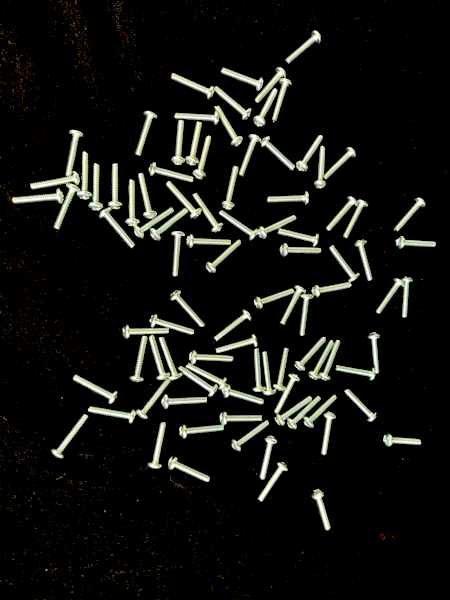longscrew: (53, 414, 87, 459), (74, 369, 116, 405), (173, 69, 216, 103), (171, 291, 208, 328), (256, 462, 291, 501), (99, 212, 135, 248), (192, 191, 224, 231), (263, 137, 297, 174), (219, 210, 256, 244), (53, 183, 79, 230), (214, 309, 251, 342), (136, 206, 173, 239), (140, 377, 170, 417), (285, 30, 319, 65), (168, 183, 202, 218), (232, 418, 269, 450), (207, 237, 239, 274), (270, 375, 301, 413), (64, 127, 88, 176), (169, 455, 209, 484), (254, 66, 288, 100), (217, 88, 253, 120), (297, 133, 327, 171), (216, 104, 243, 146), (344, 390, 375, 426), (149, 314, 195, 338), (375, 280, 406, 315), (225, 64, 262, 93), (257, 213, 295, 241), (325, 147, 357, 180), (147, 162, 195, 184), (288, 398, 322, 429), (178, 369, 217, 396), (328, 196, 358, 231), (154, 207, 187, 238), (275, 398, 312, 425), (392, 200, 424, 231), (307, 395, 338, 427), (296, 339, 329, 369), (31, 171, 78, 192), (310, 490, 333, 532), (317, 413, 340, 455), (149, 424, 170, 470), (311, 341, 337, 378), (256, 287, 296, 311), (217, 333, 257, 357), (345, 200, 369, 239), (194, 137, 216, 179), (238, 135, 260, 177), (160, 336, 181, 380), (136, 112, 156, 158), (188, 363, 226, 387), (333, 246, 359, 281), (255, 90, 280, 126), (148, 336, 168, 381), (322, 341, 345, 380), (222, 385, 264, 406), (225, 165, 245, 209), (282, 288, 306, 324), (272, 80, 292, 122), (122, 323, 168, 341), (395, 236, 441, 254), (356, 240, 376, 281), (261, 437, 280, 480), (181, 423, 224, 442), (88, 406, 135, 423), (188, 352, 235, 369), (312, 282, 356, 300), (219, 409, 263, 427), (130, 336, 147, 382), (248, 348, 265, 394), (274, 346, 291, 392), (277, 227, 320, 245), (189, 235, 232, 253), (333, 365, 376, 383), (164, 393, 207, 411), (259, 351, 276, 396), (140, 174, 156, 220), (401, 275, 416, 322), (11, 190, 64, 203), (299, 292, 314, 336), (172, 232, 186, 279), (188, 122, 203, 165), (265, 192, 310, 205), (369, 331, 381, 379), (172, 119, 184, 165), (90, 166, 103, 208), (277, 246, 322, 258), (316, 145, 328, 188), (383, 433, 425, 445), (111, 163, 121, 213), (127, 178, 137, 228), (81, 148, 91, 197), (172, 112, 221, 122)
